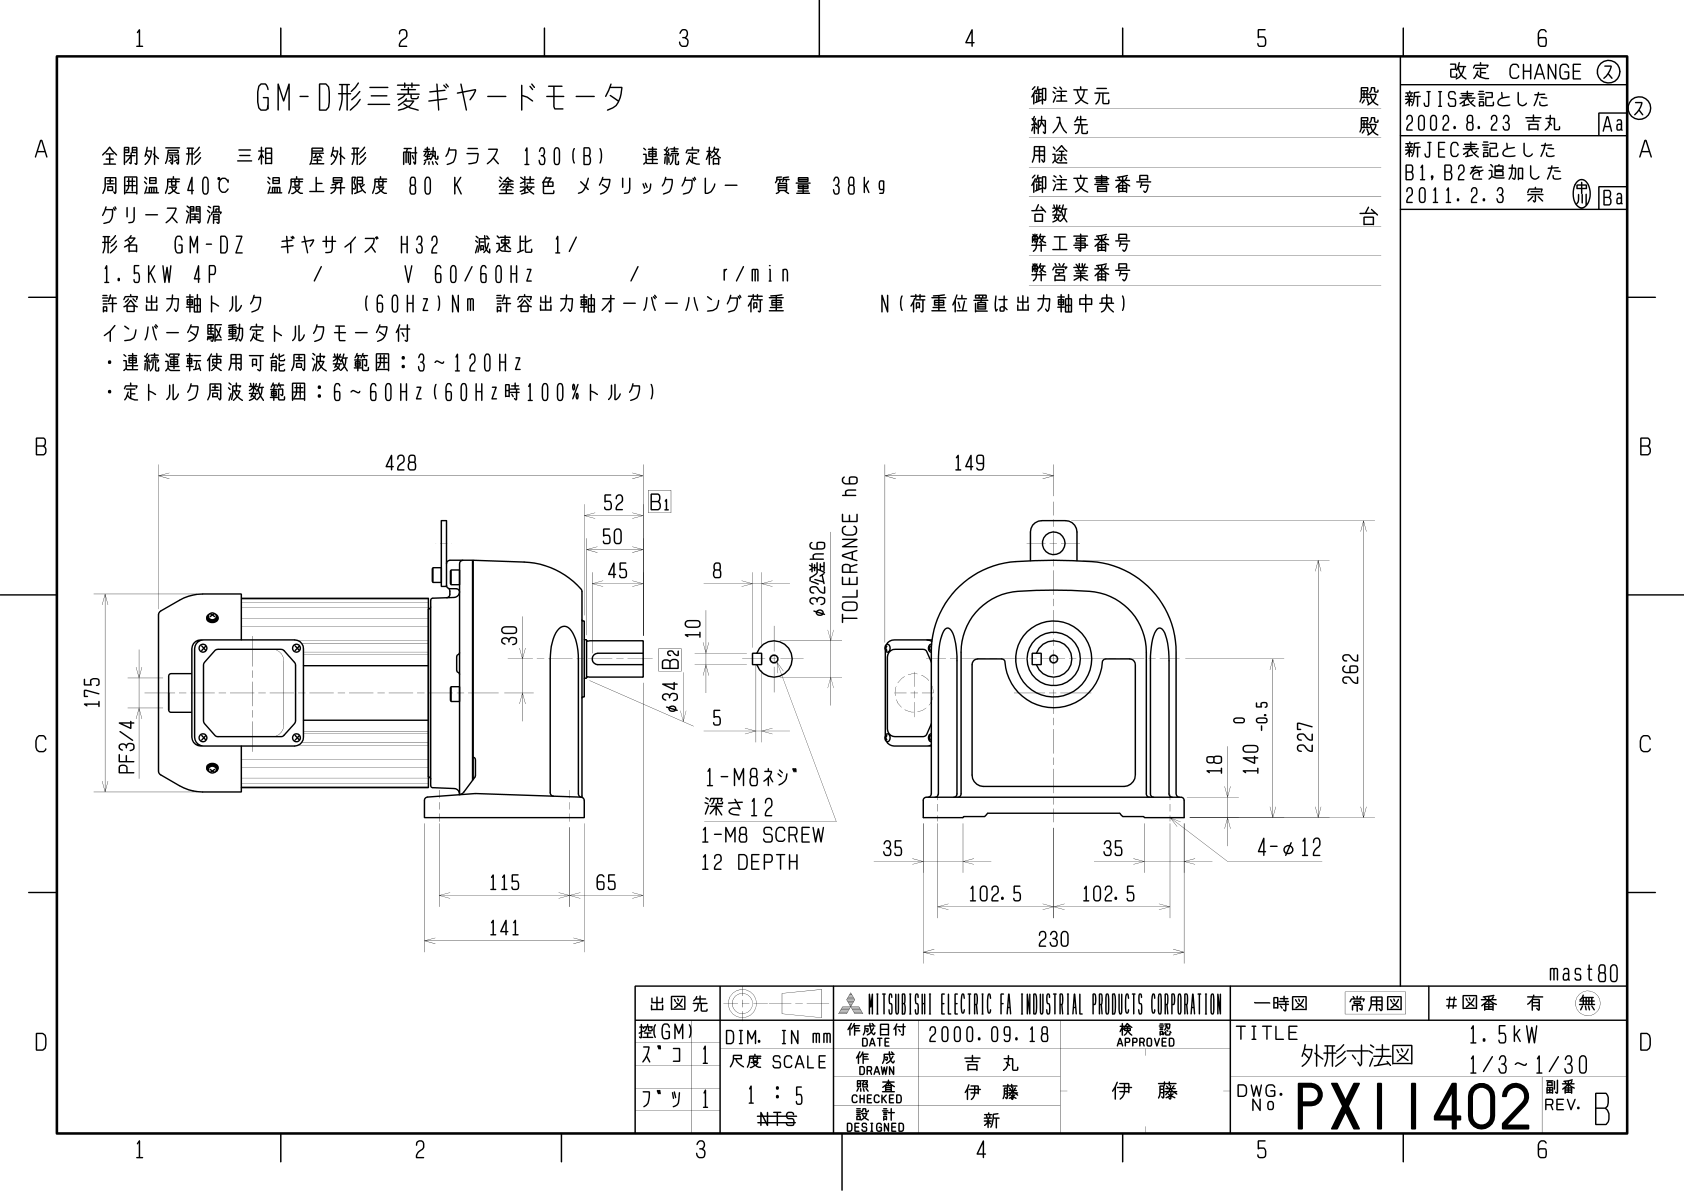GM_D_インバータ屋外_三相_脚: (1, 1, 1672, 1186)
